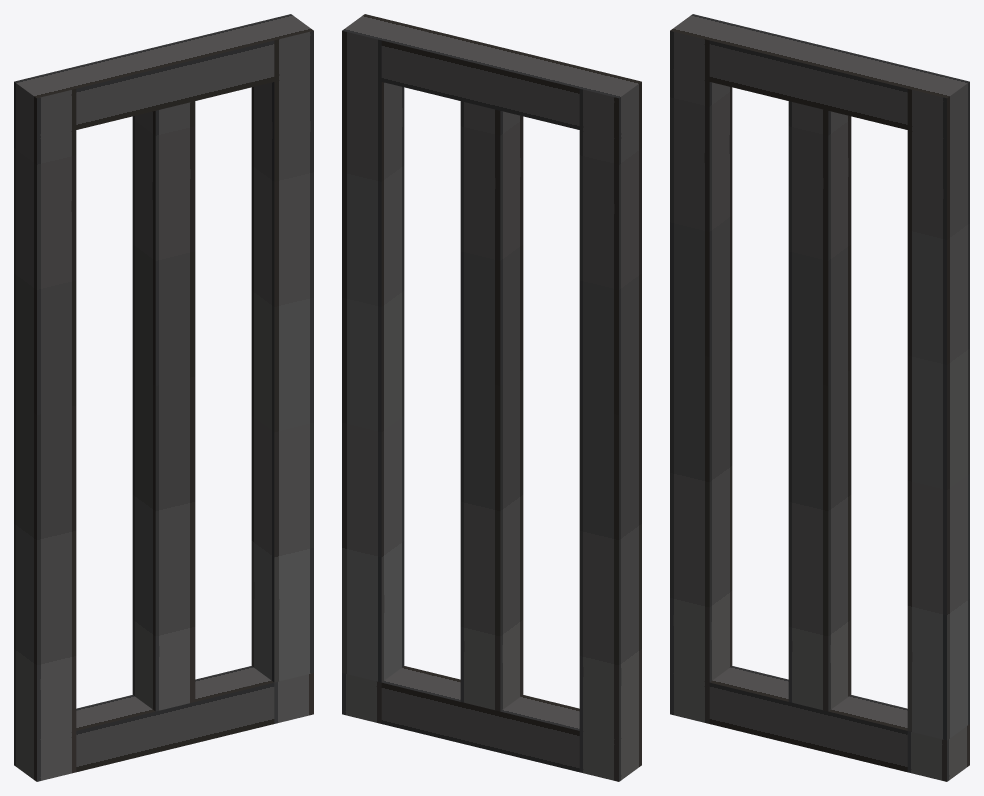
Rendered from prison_door.glb.
3 views of the same model, side by side, from view 1: azimuth 30°, elevation 25°; view 2: azimuth 150°, elevation 25°; view 3: azimuth 330°, elevation 25° (orthographic).
Parts seen in each view (by area): view 1: door-col; view 2: door-col; view 3: door-col.
Boxes of the visible parts, x1=… form: door-col: x1=14, y1=14, x2=313, y2=781; door-col: x1=342, y1=14, x2=641, y2=781; door-col: x1=670, y1=14, x2=969, y2=781.
Size of the model in its own units: 0.7 by 1.65 by 0.1.
Materials: 1 (1 with a texture image).
